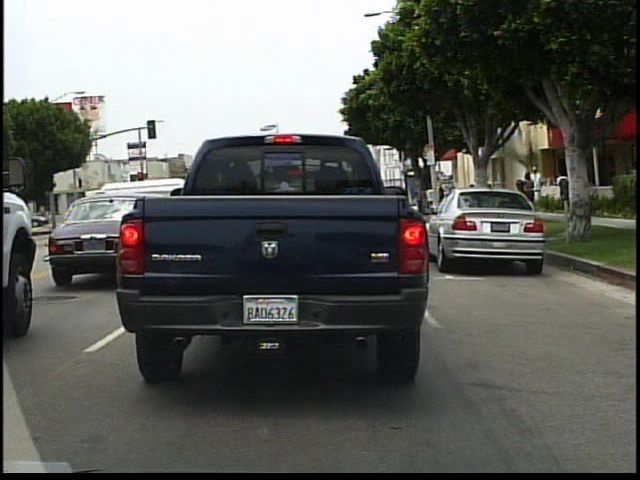person: (552, 168, 573, 214), (480, 173, 498, 213)
